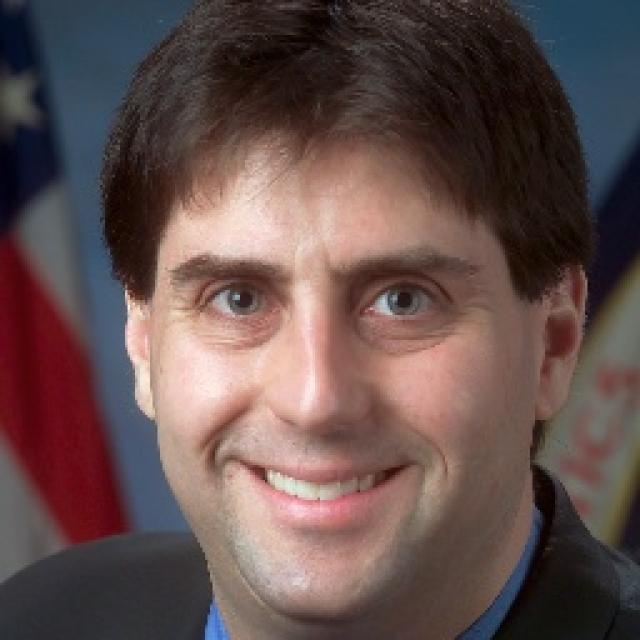earlobe: (531, 372, 564, 422), (130, 365, 159, 420)
eye: (365, 281, 444, 319), (202, 282, 282, 316)
nose: (262, 407, 376, 472)
wholeear: (532, 257, 588, 422), (123, 268, 159, 419)
